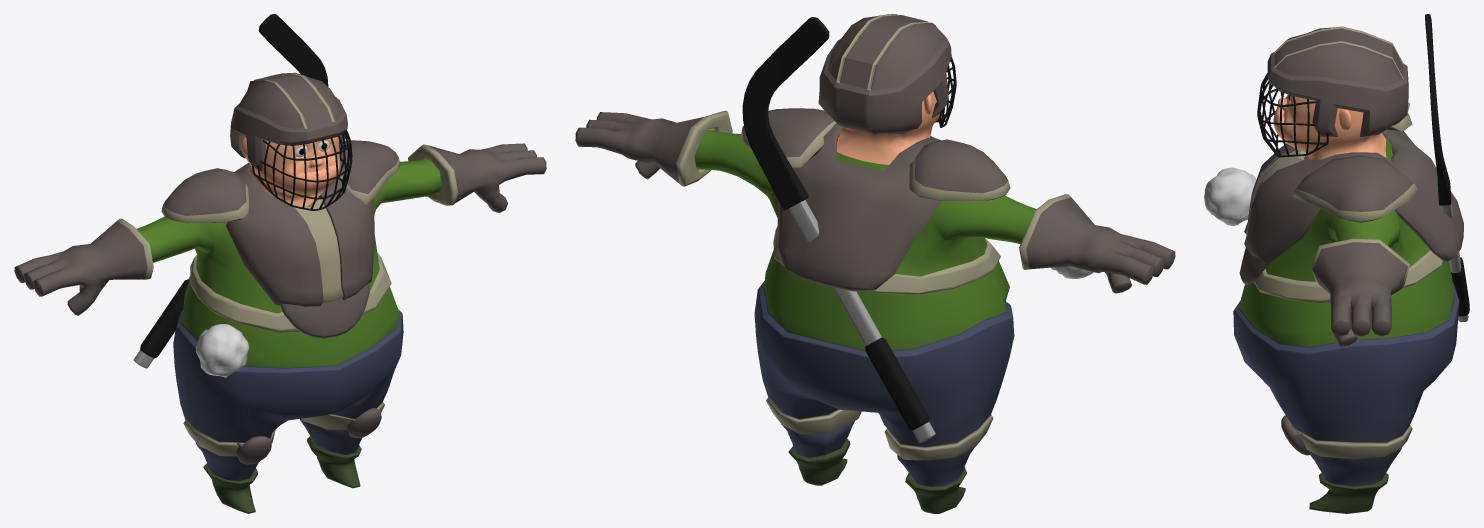
File: bigBaddieMESH.fbx
3 views of the same model, side by side, from view 1: azimuth 30°, elevation 25°; view 2: azimuth 150°, elevation 25°; view 3: azimuth 270°, elevation 25° (orthographic). The views are drawn at different scales.
Visible parts, largest first — view 1: bigBaddieGEO; view 2: bigBaddieGEO; view 3: bigBaddieGEO.
Boxes of the visible parts, x1,y1,x2,y2 form: bigBaddieGEO: (14, 14, 546, 513); bigBaddieGEO: (575, 14, 1175, 513); bigBaddieGEO: (1204, 14, 1469, 513).
Size of the model in its own units: 2.11 by 1.74 by 0.8776.
